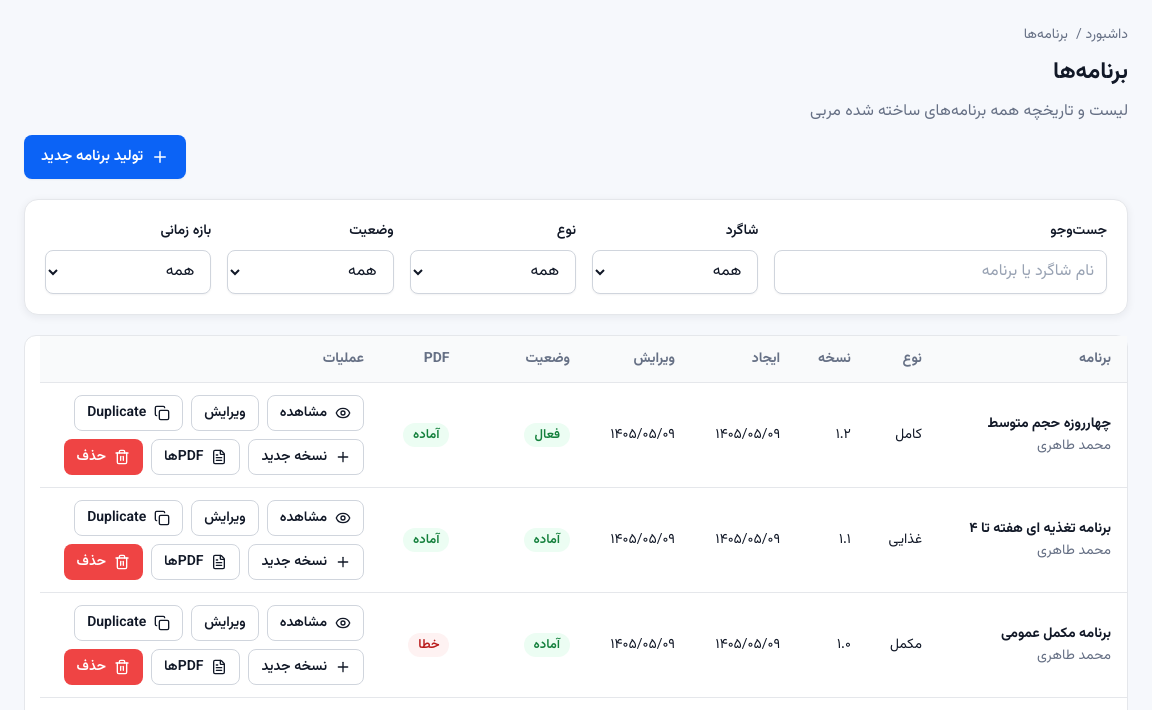
Test case: ProgramsListPage › filters programs by program type
The width and height of the screenshot is (1152, 710).
Select "مکمل" in the dropdown labelled "نوع" at (493, 272), box x1=410 y1=250 x2=576 y2=294
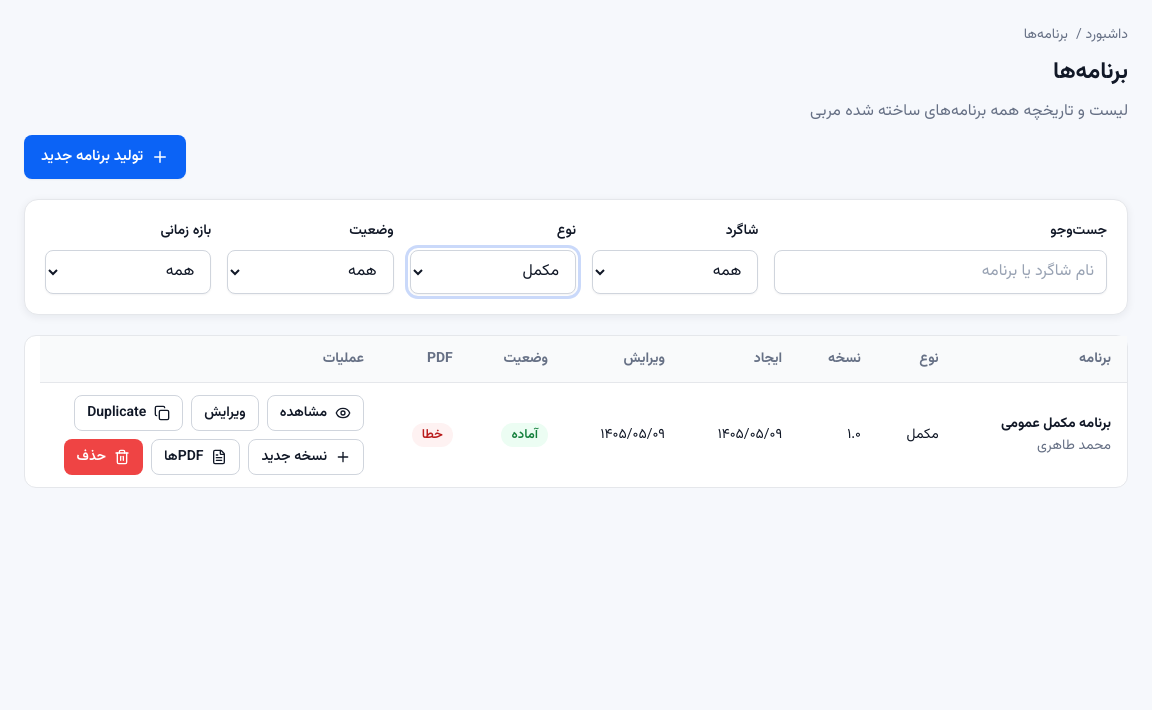
expect the text "برنامه تغذیه ای هفته تا ۴" is gone: met
